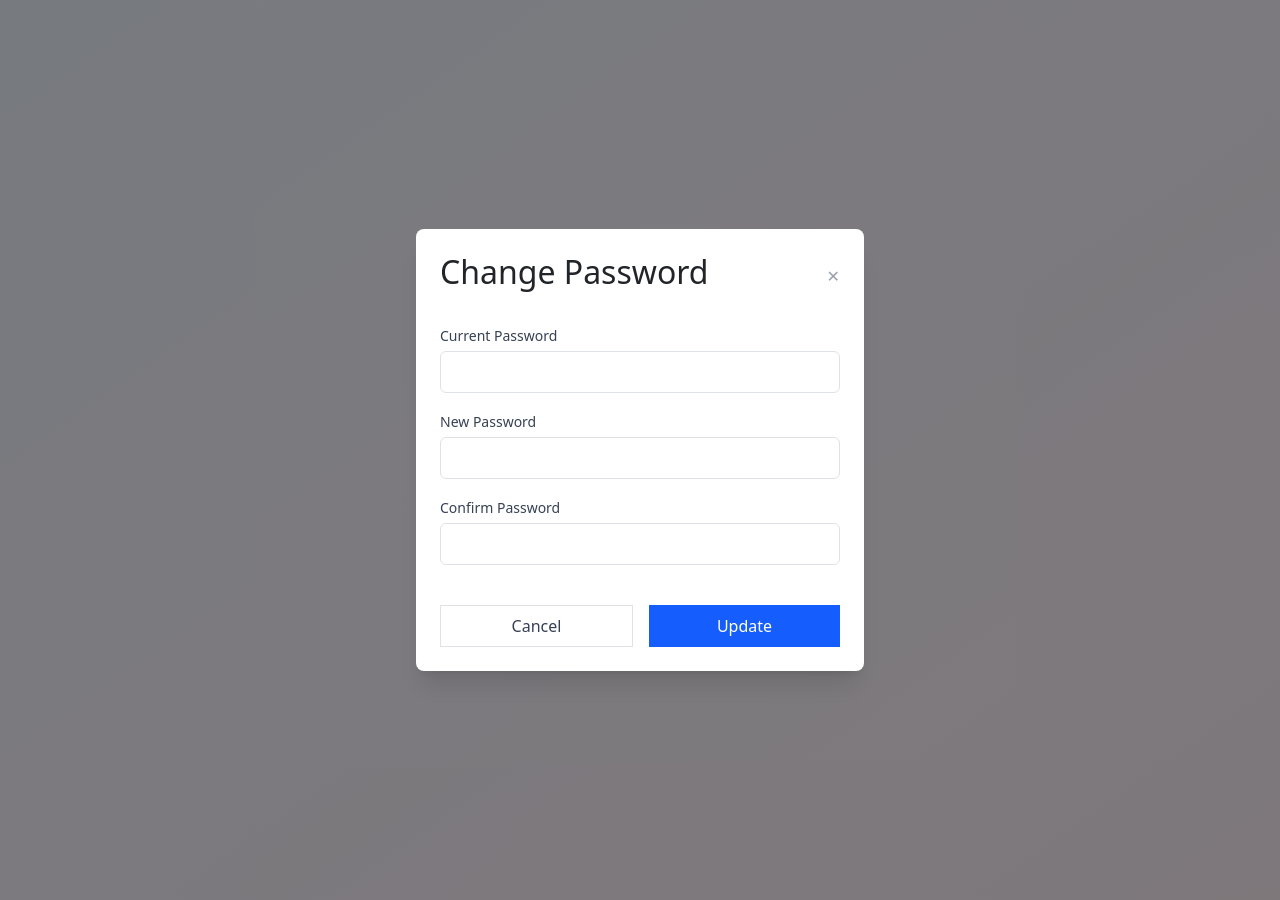
Form Components › ChangePasswordModal › should validate all fields required
Click the button "Update" at [744, 626], box [649,605,840,647]
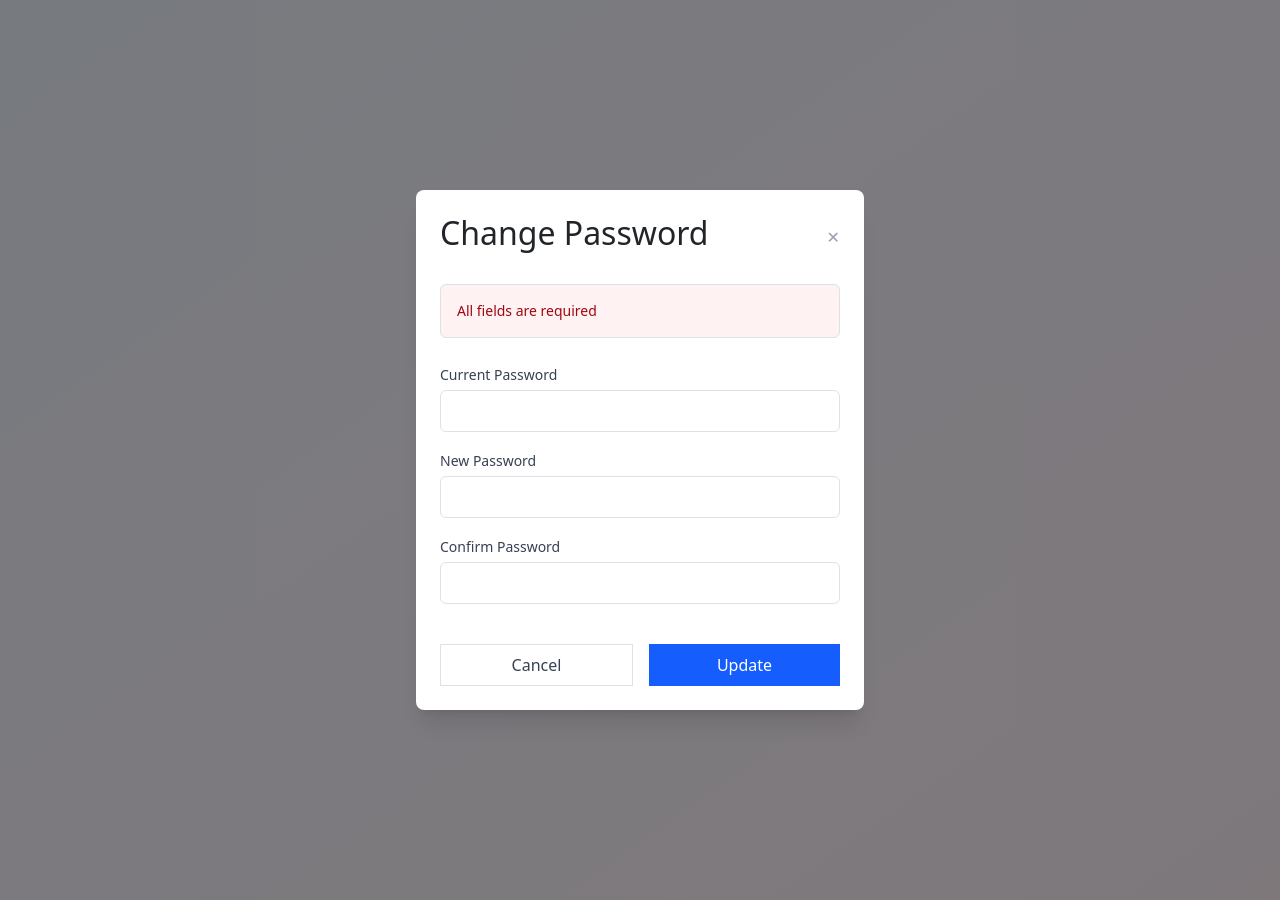
expect the text "All fields are required" is shown: met, box [440,284,840,338]
